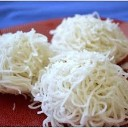idiyappam: (40, 55, 128, 126), (51, 17, 125, 63), (1, 32, 49, 93)
